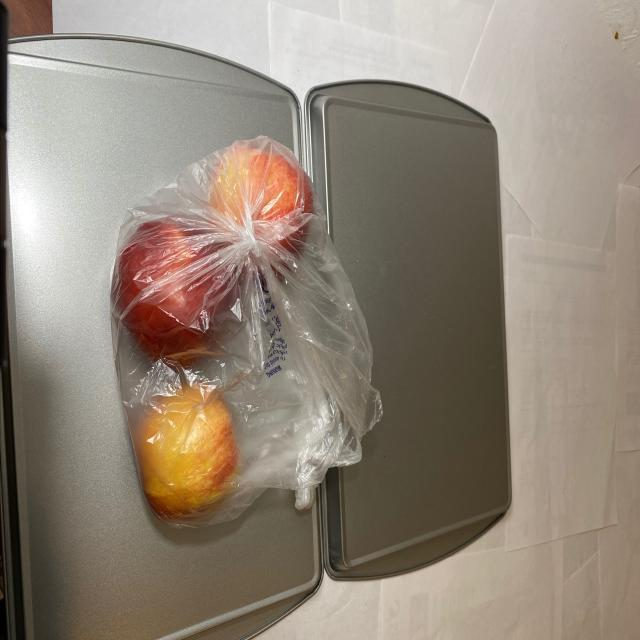apple: (114, 128, 319, 531)
